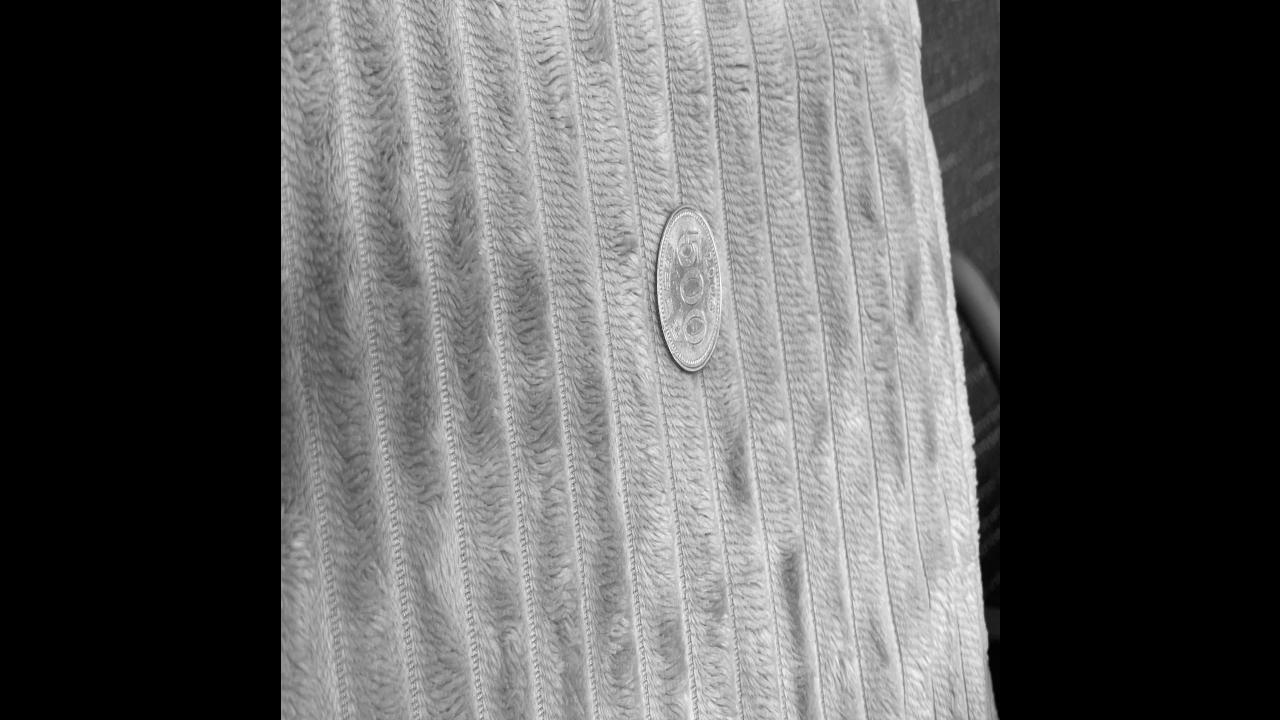coin: (654, 205, 723, 377)
